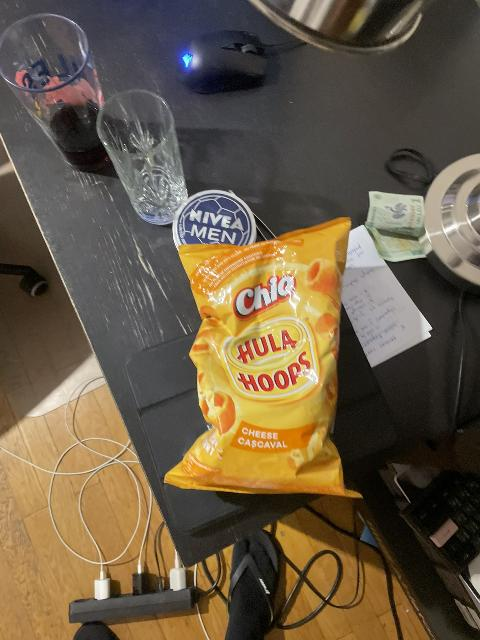Chio Hula Hoops Cheese 70g: (162, 218, 365, 499)
